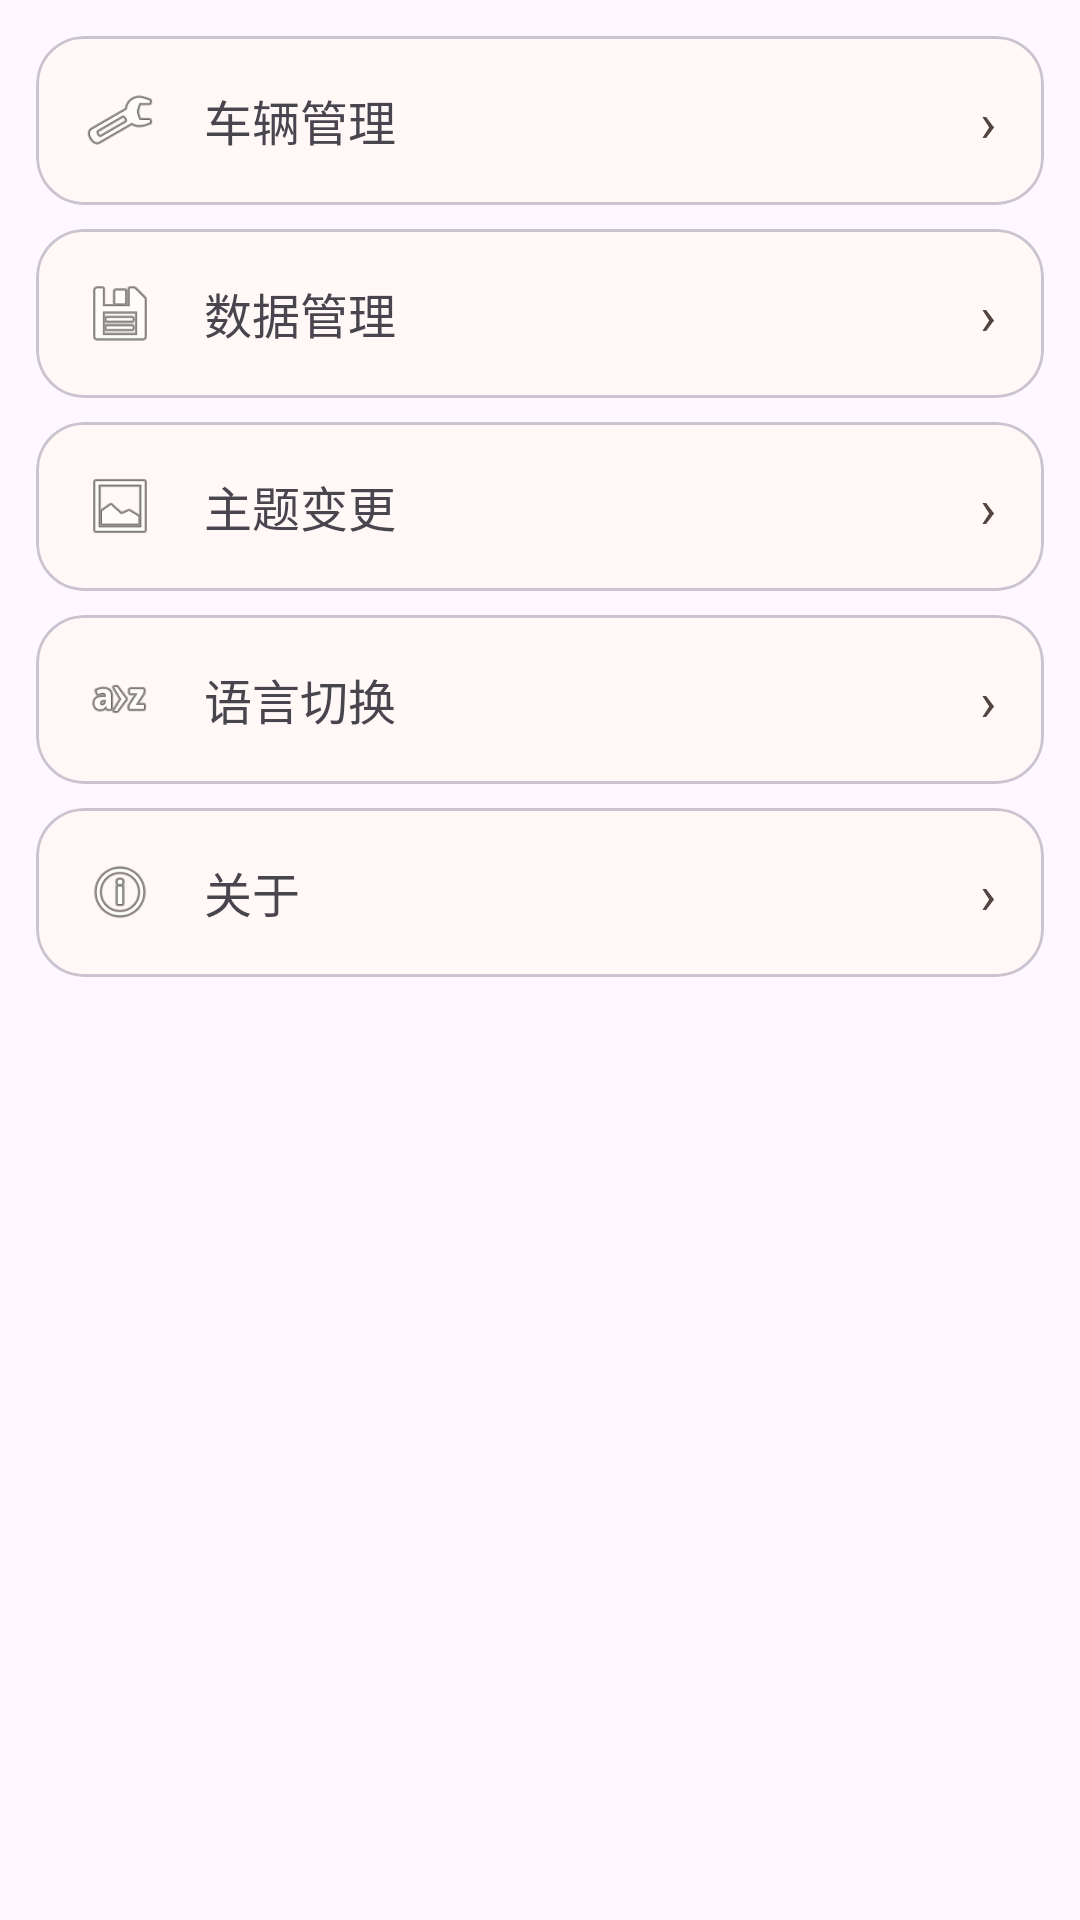

Icons on this 1080*1920 Android screen, each with its box as [left=x1, top=y1, right=x2, bottom=y2]:
gallery: [left=93, top=479, right=147, bottom=533]
info details: [left=94, top=866, right=146, bottom=918]
manage: [left=87, top=95, right=152, bottom=145]
save: [left=93, top=286, right=147, bottom=341]
sort alphabetically: [left=92, top=685, right=146, bottom=713]
